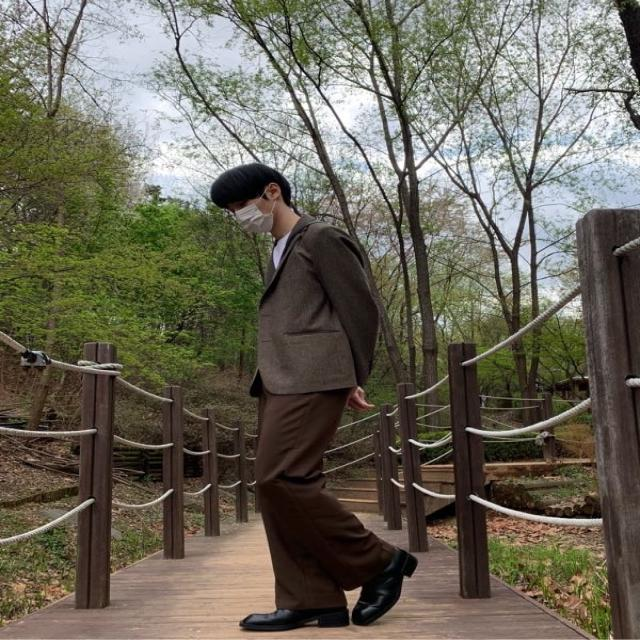blazer: (245, 213, 384, 394)
slacks: (260, 358, 399, 614)
